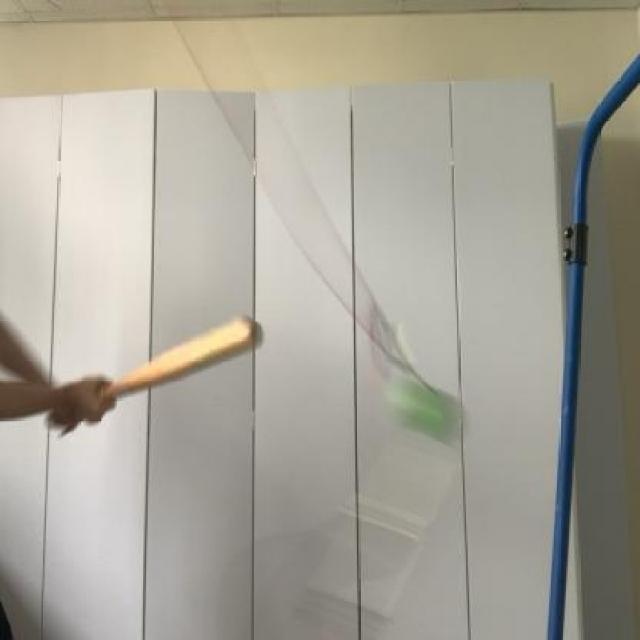baseball: (382, 362, 472, 464)
